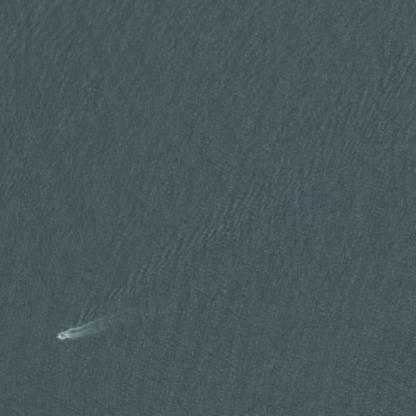ship: (46, 325, 76, 341)
